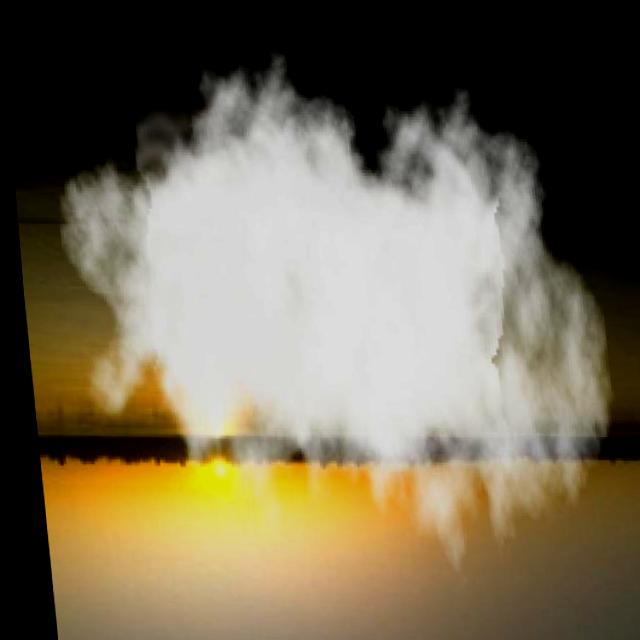Smoke: (37, 34, 625, 595)
